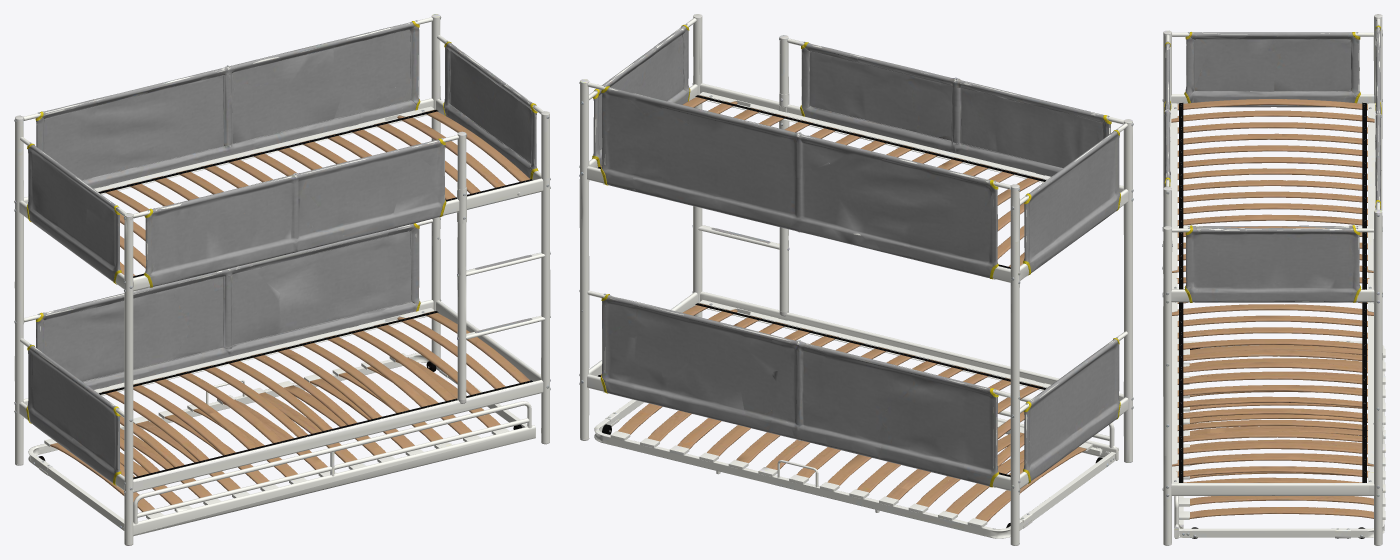
The model's file is vitval_rama_ozka_pietr_z_dolnym_ozkiem_19302922.glb.
The picture shows the model from 3 angles, left to right: view 1: azimuth 30°, elevation 25°; view 2: azimuth 150°, elevation 25°; view 3: azimuth 270°, elevation 25°; orthographic projection. The views are drawn at different scales.
Visible parts, largest first — view 1: vitval_rama_ozka_pietr_z_dolnym_ozkiem_19302922; view 2: vitval_rama_ozka_pietr_z_dolnym_ozkiem_19302922; view 3: vitval_rama_ozka_pietr_z_dolnym_ozkiem_19302922.
Part boxes in pixels (box(x1,y1,x2,y2)): vitval_rama_ozka_pietr_z_dolnym_ozkiem_19302922: box(14, 14, 550, 545); vitval_rama_ozka_pietr_z_dolnym_ozkiem_19302922: box(579, 14, 1133, 545); vitval_rama_ozka_pietr_z_dolnym_ozkiem_19302922: box(1162, 14, 1385, 545).
Size of the model in its own units: 2.08 by 1.62 by 0.9814.
1 material, 1 textured.
